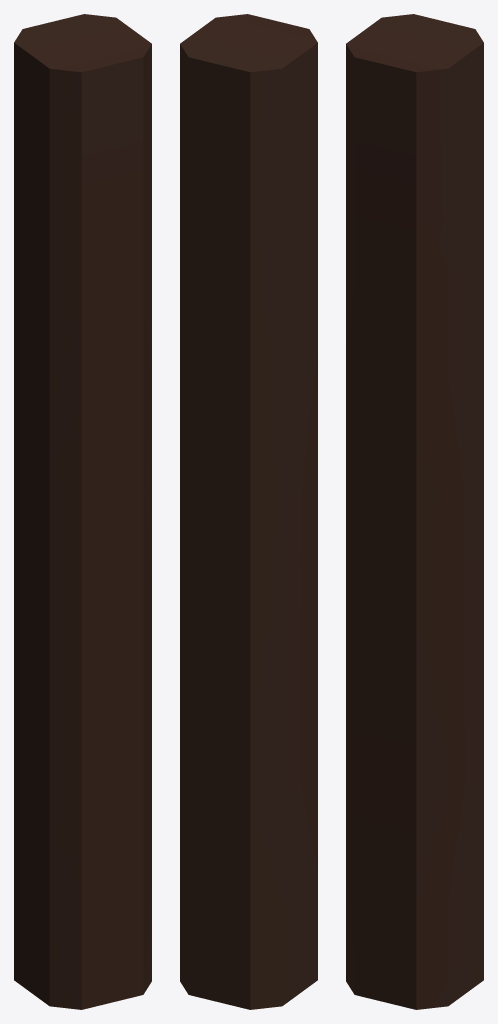
The model's file is SM_Colonne.fbx.
3 renders of one model, left to right at view 1: azimuth 30°, elevation 25°; view 2: azimuth 150°, elevation 25°; view 3: azimuth 330°, elevation 25°, orthographic.
Parts seen in each view (by area): view 1: SM_Colonne; view 2: SM_Colonne; view 3: SM_Colonne.
Part boxes in pixels (x1,y1,x2,y2): SM_Colonne: (14, 14, 151, 1009); SM_Colonne: (180, 14, 317, 1009); SM_Colonne: (346, 14, 483, 1009).
Size of the model in its own units: 0.6852 by 0.6852 by 6.
